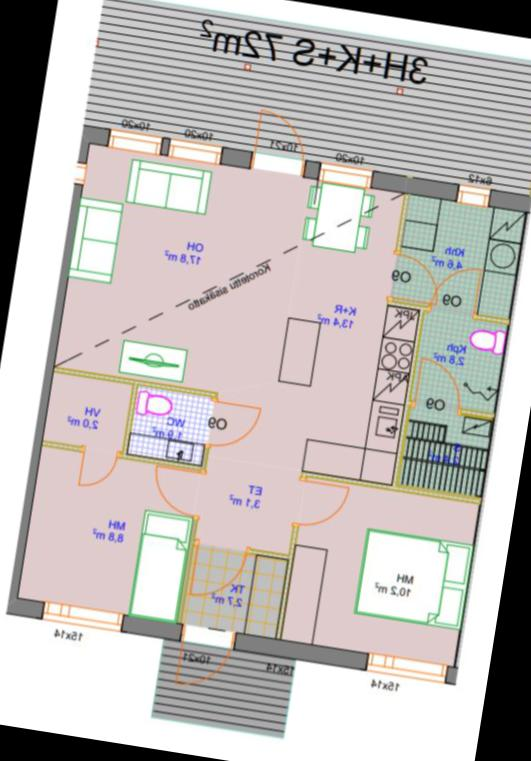door: (167, 618, 238, 692), (181, 534, 255, 604), (249, 106, 314, 178), (286, 474, 353, 534), (424, 256, 486, 318), (147, 459, 207, 519), (384, 248, 444, 306), (412, 357, 470, 414), (204, 396, 263, 450), (70, 439, 121, 493)
window: (358, 648, 454, 686), (34, 598, 126, 633), (98, 124, 168, 157), (310, 158, 381, 190), (159, 132, 228, 164), (450, 179, 496, 209), (68, 156, 88, 188)
